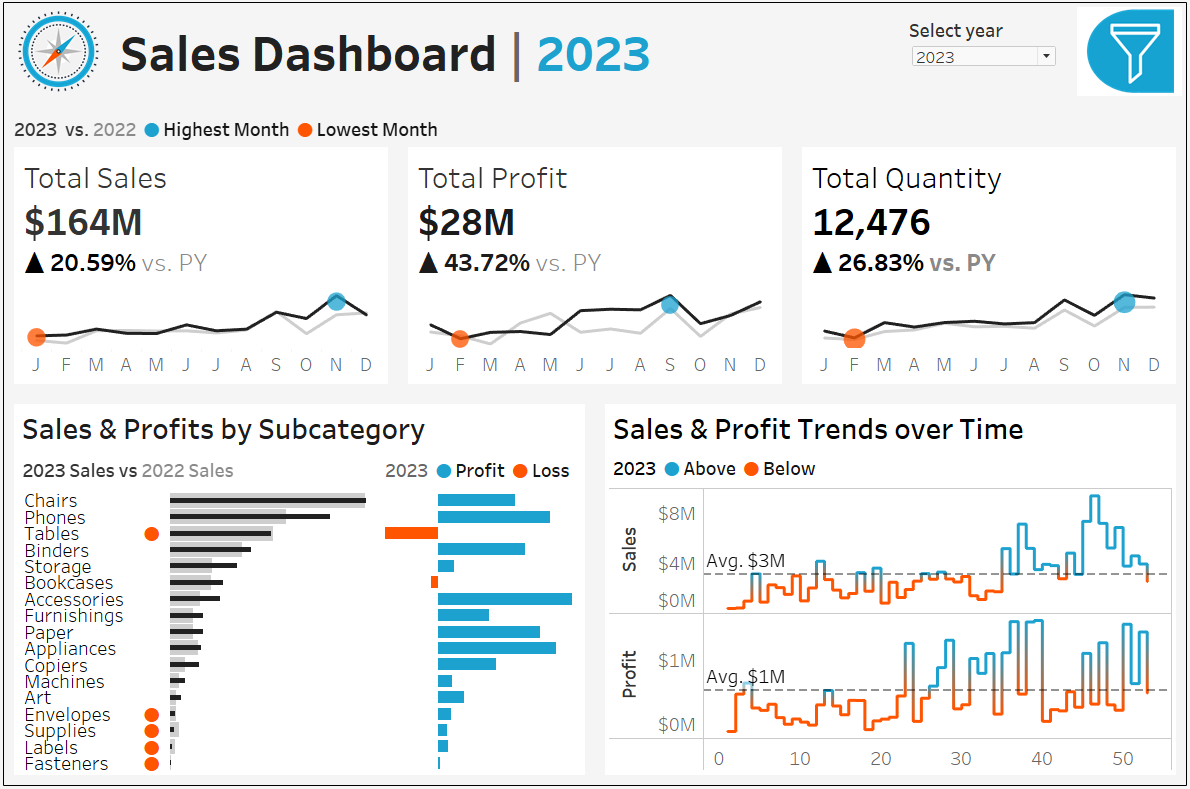

This screenshot's page, from the dashboard's own definition file:
{"tool":"tableau","page":{"name":"Sales Dashboard","canvas":[1200,800],"ordinal":0},"visuals":[{"type":"image","param":"C:/Users/silvi/Downloads/Sales Dashboard Tableau/Sales Dashboard Materials/Dashb","box":[9,9,108,97]},{"type":"text","box":[117,9,783,97]},{"type":"parameter","param":"[Parameters].[Parameter 1]","box":[900,9,178,97]},{"type":"dashboard-object","box":[1078,9,113,97]},{"type":"text","box":[962,19,218,47]},{"type":"worksheet","title":"Legends KPI","mark":"Automatic","box":[9,106,1182,47]},{"type":"worksheet","title":"KPI Sales","mark":"Automatic","rows":["Calculation_1449033216305840133"],"cols":["Order Date"],"box":[9,153,394,247]},{"type":"worksheet","title":"KPI Profit","mark":"Automatic","rows":["CY Profit (copy)_1449033216651157522"],"cols":["Order Date"],"box":[403,153,394,247]},{"type":"worksheet","title":"KPI Quantity","mark":"Automatic","rows":["Min/Max Sales (copy)_1449033216972795929"],"cols":["Order Date"],"box":[797,153,394,247]},{"type":"text","box":[962,181,218,39]},{"type":"filter","title":"KPI Sales","param":"[federated.0d6qdlz1iwhn811d58np81s62lcs].[none:Category:nk]","box":[962,220,218,70]},{"type":"filter","title":"KPI Sales","param":"[federated.0d6qdlz1iwhn811d58np81s62lcs].[none:Sub-Category:nk]","box":[962,290,218,70]},{"type":"text","box":[19,410,571,47]},{"type":"text","box":[610,410,571,47]},{"type":"text","box":[962,413,218,39]},{"type":"filter","title":"KPI Sales","param":"[federated.0d6qdlz1iwhn811d58np81s62lcs].[none:State:nk]","box":[962,452,218,70]},{"type":"worksheet","title":"Legends Subcategory","mark":"Automatic","box":[19,457,363,37]},{"type":"text","box":[382,457,208,37]},{"type":"text","box":[610,457,571,33]},{"type":"worksheet","title":"Weekly Trends","mark":"Automatic","rows":["Calculation_1449033216237015041","Calculation_1449033216642916367"],"cols":["Order Date"],"box":[610,490,571,291]},{"type":"worksheet","title":"Subcategory Comparison","mark":"Bar","rows":["Sub-Category","Calculation_1449033217014001693"],"cols":["CY Sales (copy)_1449033216241651714","Calculation_1449033216237015041","Calculation_1449033216642916367"],"box":[19,494,571,287]},{"type":"filter","title":"KPI Sales","param":"[federated.0d6qdlz1iwhn811d58np81s62lcs].[none:Region:nk]","box":[962,522,218,70]},{"type":"filter","title":"KPI Sales","param":"[federated.0d6qdlz1iwhn811d58np81s62lcs].[none:City:nk]","box":[962,592,218,70]}]}

Visuals, with their boxes in screenshot pixels (x1, y1, x2, y2), scaled from the page's 1200x800 canvas onto the 1190x789 screenshot:
image: <bbox>9, 9, 116, 105</bbox>
text: <bbox>116, 9, 892, 105</bbox>
parameter: <bbox>892, 9, 1069, 105</bbox>
dashboard-object: <bbox>1069, 9, 1181, 105</bbox>
text: <bbox>954, 19, 1170, 65</bbox>
"Legends KPI" worksheet: <bbox>9, 105, 1181, 151</bbox>
"KPI Sales" worksheet: <bbox>9, 151, 400, 394</bbox>
"KPI Profit" worksheet: <bbox>400, 151, 790, 394</bbox>
"KPI Quantity" worksheet: <bbox>790, 151, 1181, 394</bbox>
text: <bbox>954, 179, 1170, 217</bbox>
"KPI Sales" filter: <bbox>954, 217, 1170, 286</bbox>
"KPI Sales" filter: <bbox>954, 286, 1170, 355</bbox>
text: <bbox>19, 404, 585, 451</bbox>
text: <bbox>605, 404, 1171, 451</bbox>
text: <bbox>954, 407, 1170, 446</bbox>
"KPI Sales" filter: <bbox>954, 446, 1170, 515</bbox>
"Legends Subcategory" worksheet: <bbox>19, 451, 379, 487</bbox>
text: <bbox>379, 451, 585, 487</bbox>
text: <bbox>605, 451, 1171, 483</bbox>
"Weekly Trends" worksheet: <bbox>605, 483, 1171, 770</bbox>
"Subcategory Comparison" worksheet (Bar marks): <bbox>19, 487, 585, 770</bbox>
"KPI Sales" filter: <bbox>954, 515, 1170, 584</bbox>
"KPI Sales" filter: <bbox>954, 584, 1170, 653</bbox>
